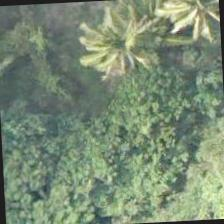Kelapa_Sawit: (80, 0, 175, 87), (127, 0, 221, 61)
